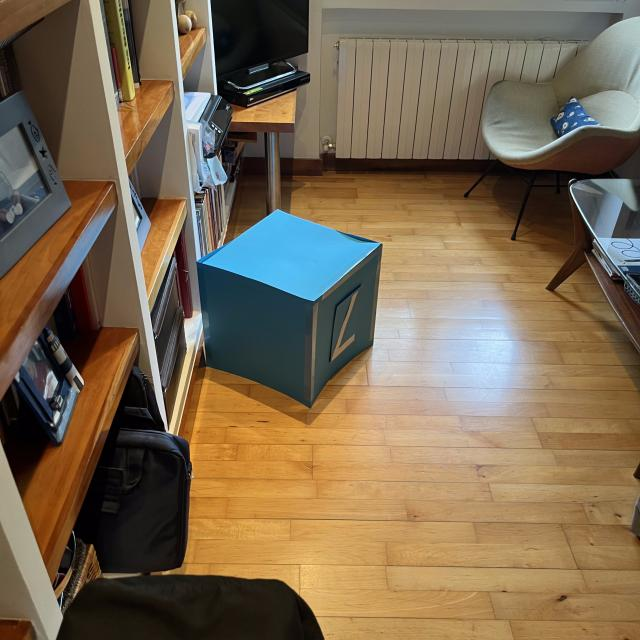box: (192, 204, 386, 410)
